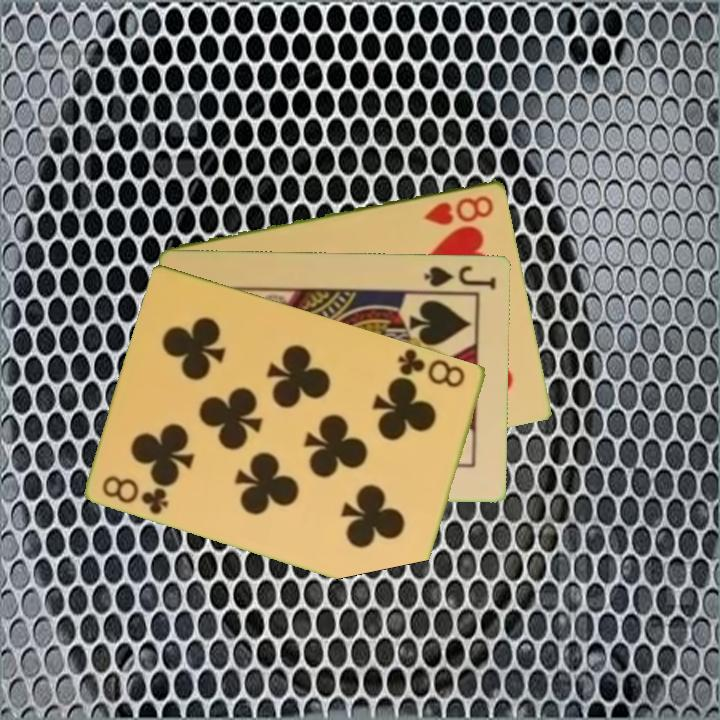8c: (99, 471, 172, 518), (393, 345, 469, 390)
8h: (420, 191, 497, 228)
Js: (421, 261, 499, 292)
